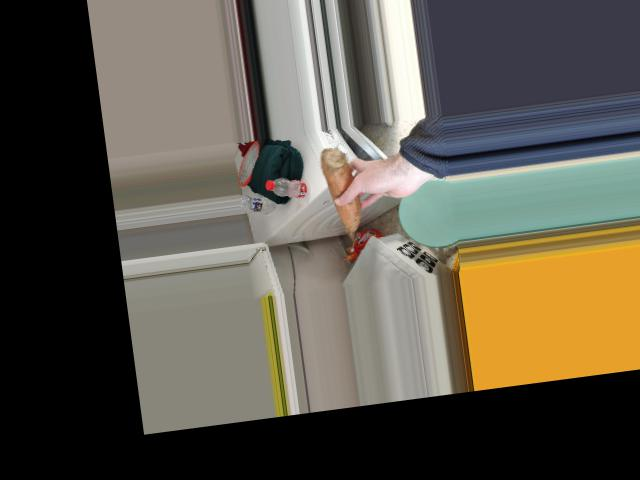sweet_potato: (326, 144, 361, 237)
